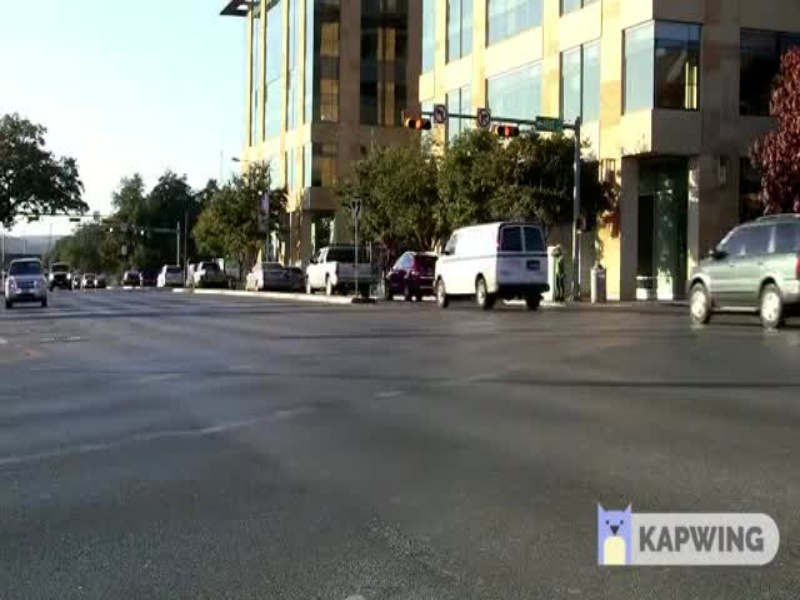car: (677, 203, 800, 348), (423, 208, 562, 315), (305, 241, 376, 302)
